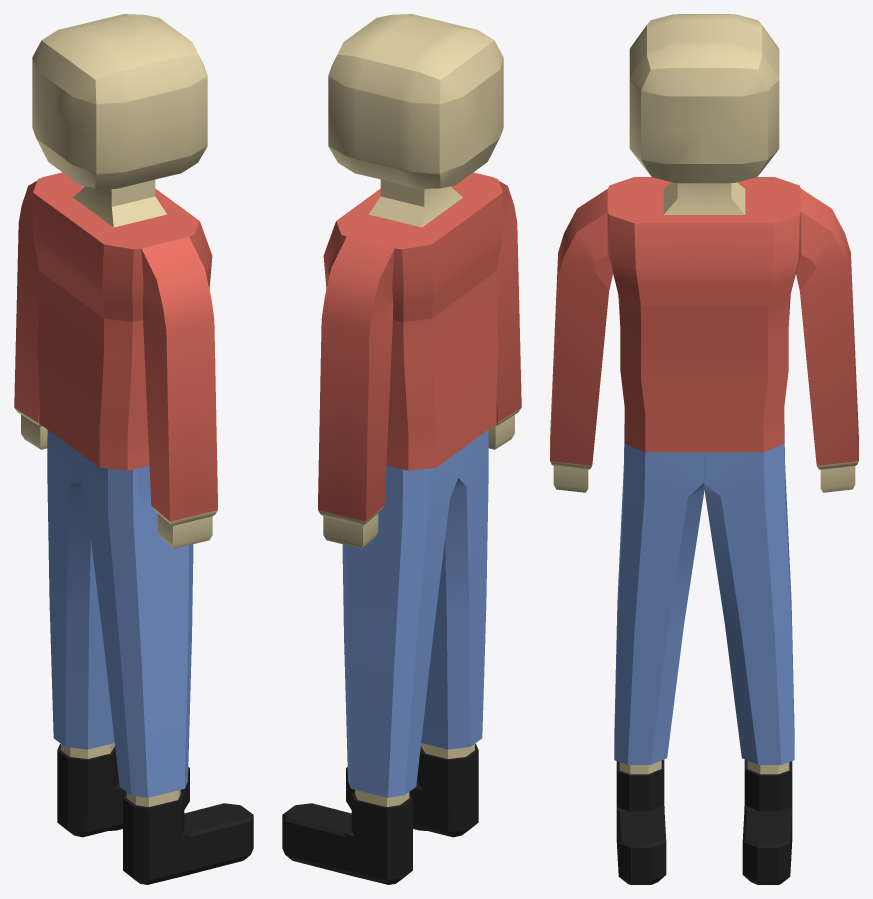
The model's file is BohommeV2.fbx.
The picture shows the model from 3 angles, left to right: view 1: azimuth 30°, elevation 25°; view 2: azimuth 150°, elevation 25°; view 3: azimuth 270°, elevation 25°; orthographic projection.
Parts seen in each view (by area): view 1: Cube.001; view 2: Cube.001; view 3: Cube.001.
Part boxes in pixels (x1,y1,x2,y2): Cube.001: (14,14,253,884); Cube.001: (282,14,521,884); Cube.001: (550,14,858,884).
Size of the model in its own units: 220 by 1066 by 367.
